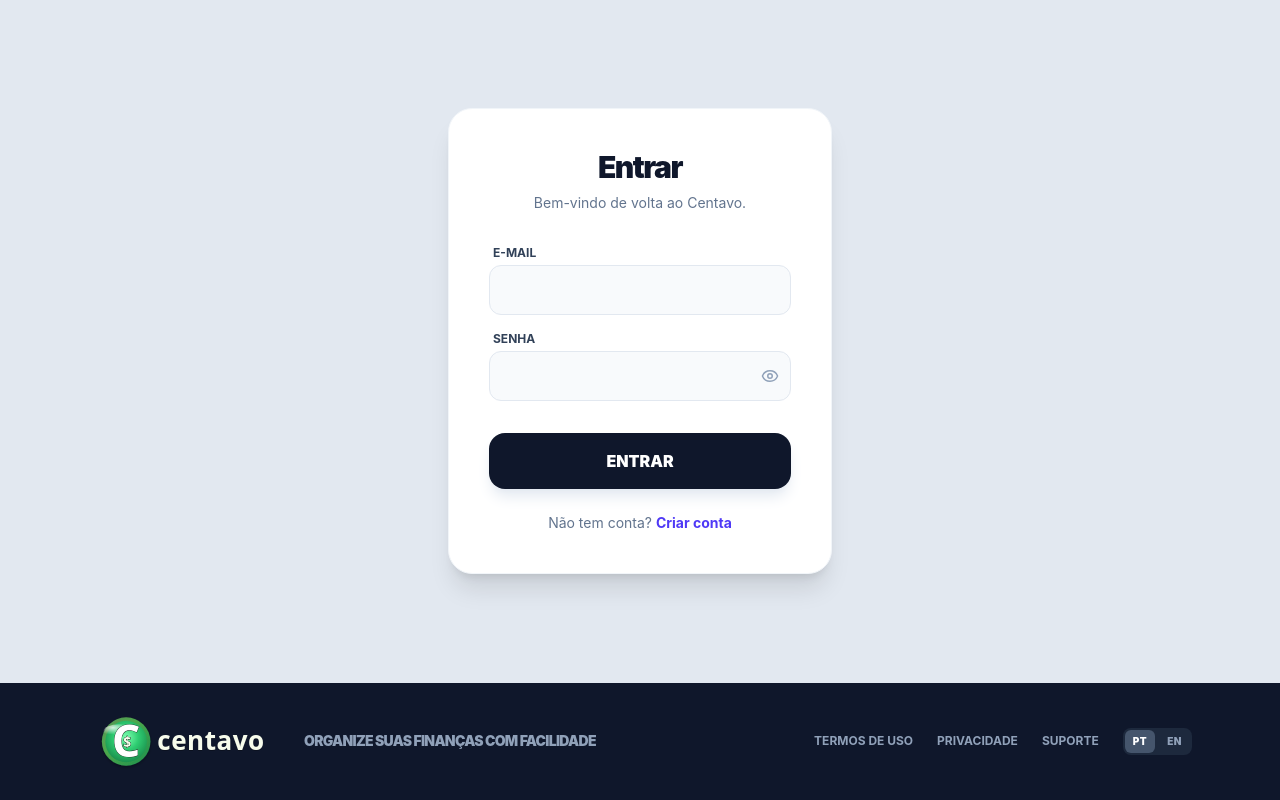
Login › senha errada mostra o aviso traduzido e continua no login
This screenshot has width=1280, height=800.
In the field labelled "E-mail": coordinates (640, 290) [489,265,791,315], type "ana@centavo.test"
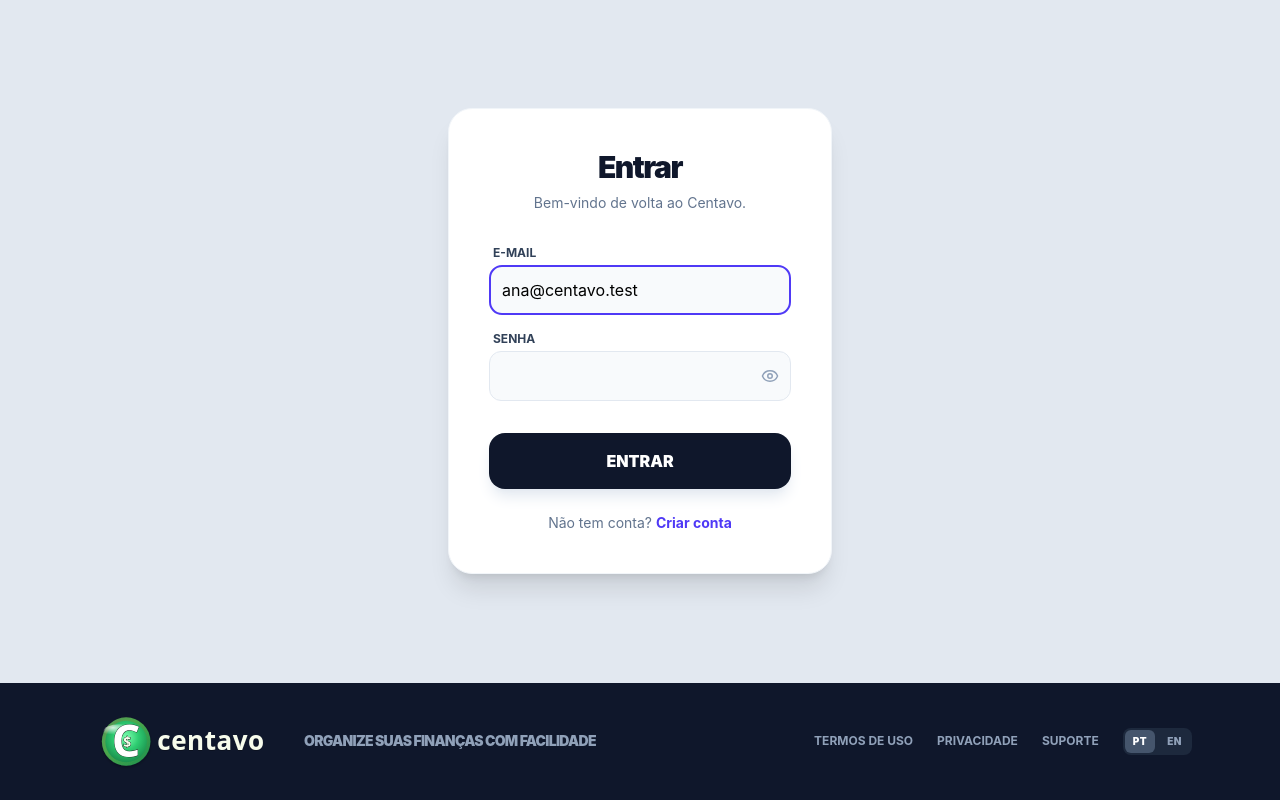
In the password field labelled "Senha": coordinates (640, 376) [489,351,791,401], type "wrong-password"
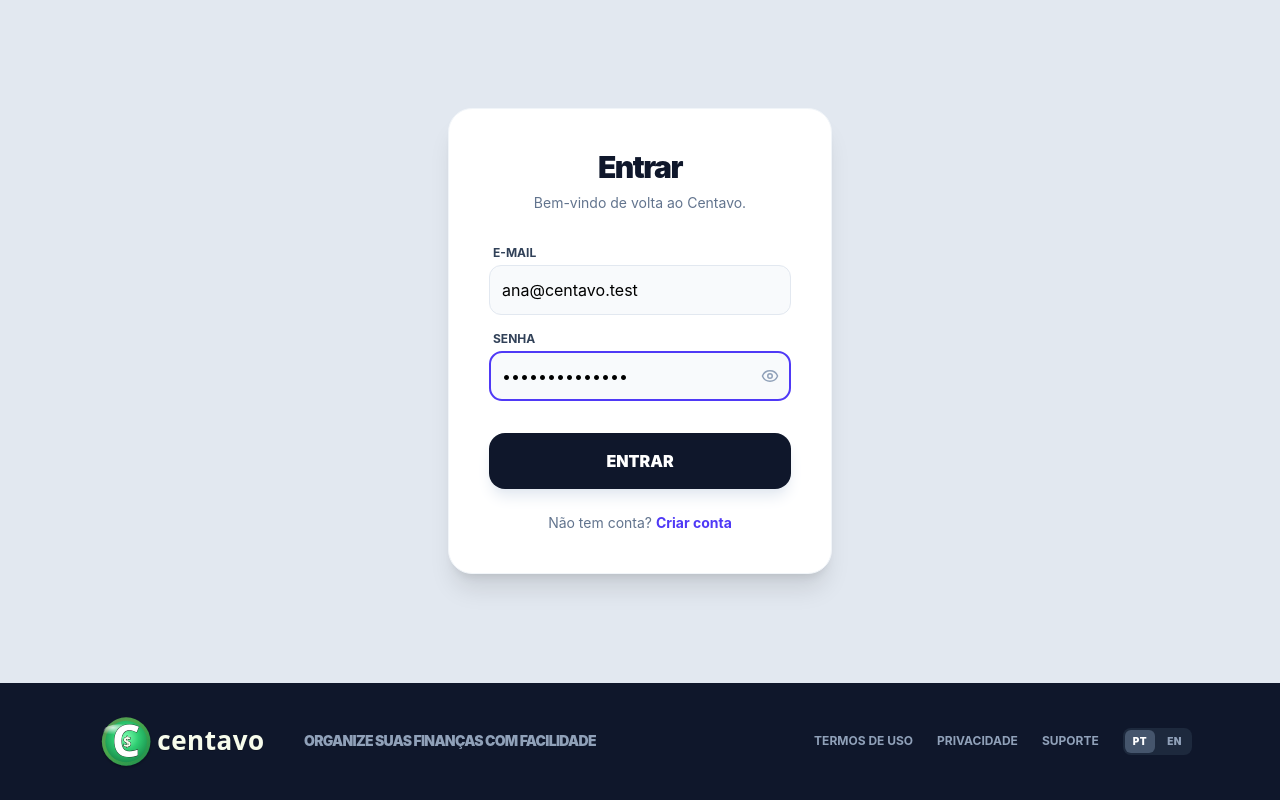
Click the button "ENTRAR": coordinates (640, 461) [489,433,791,489]
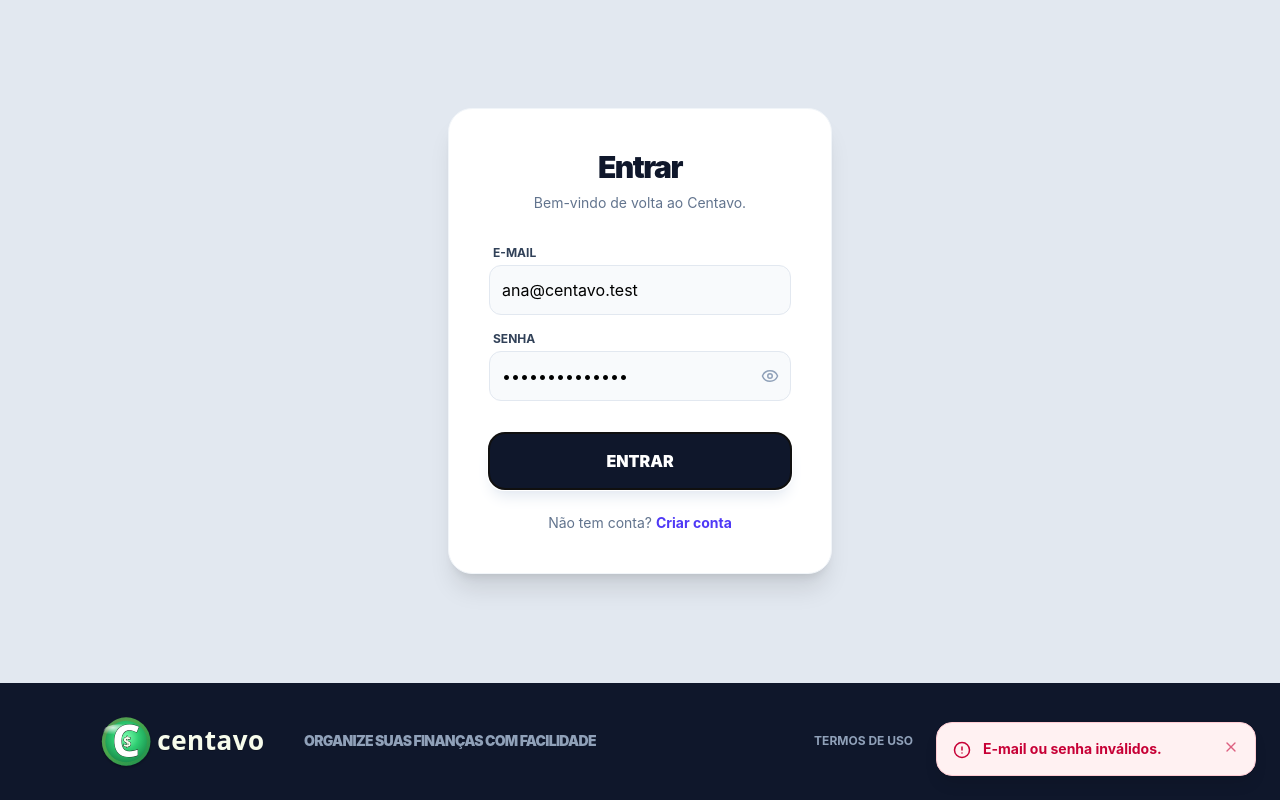
Check: the message reads "E-mail ou senha inválidos.", box [983,740,1162,757]
